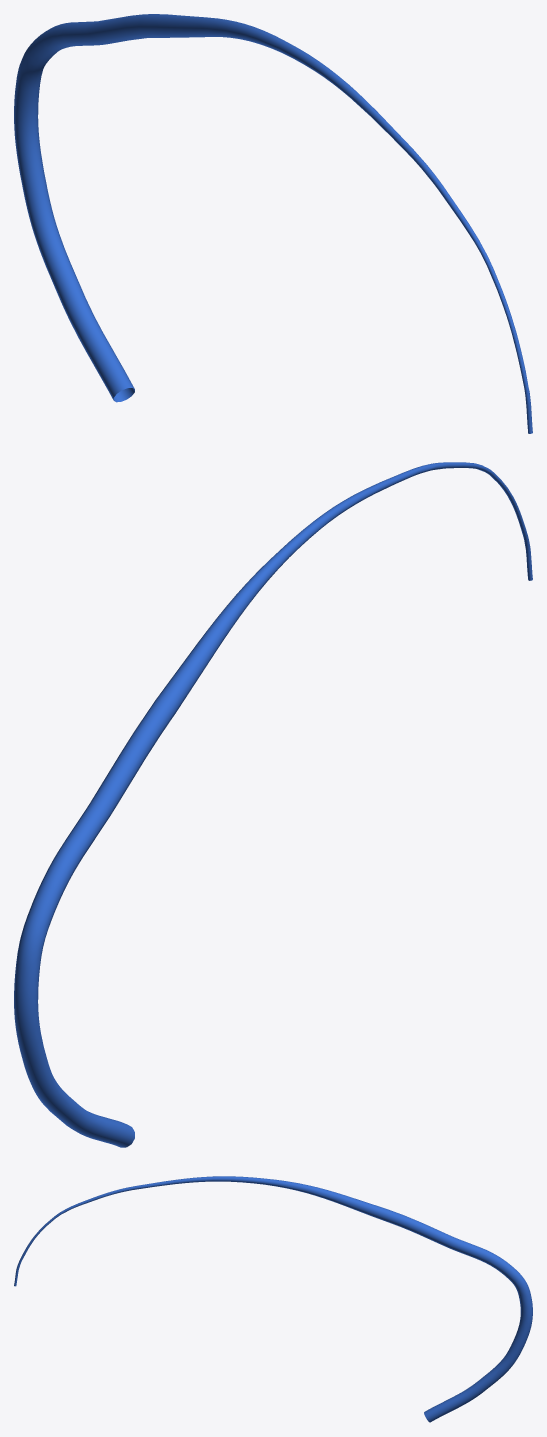
Rendered from circulatorio-inferior-sagittal-sinus.glb.
3 views of the same model, one above another, from view 1: azimuth 30°, elevation 25°; view 2: azimuth 150°, elevation 25°; view 3: azimuth 270°, elevation 25° (orthographic). The views are drawn at different scales.
Visible parts, largest first — view 1: Inferior sagittal sinus; view 2: Inferior sagittal sinus; view 3: Inferior sagittal sinus.
Boxes of the visible parts, left/top/right/bottom form: Inferior sagittal sinus: left=14, top=14, right=532, bottom=433; Inferior sagittal sinus: left=14, top=462, right=532, bottom=1147; Inferior sagittal sinus: left=14, top=1176, right=532, bottom=1422.
Bounding box in the file's own units: 0.002 × 0.0442 × 0.0847.
